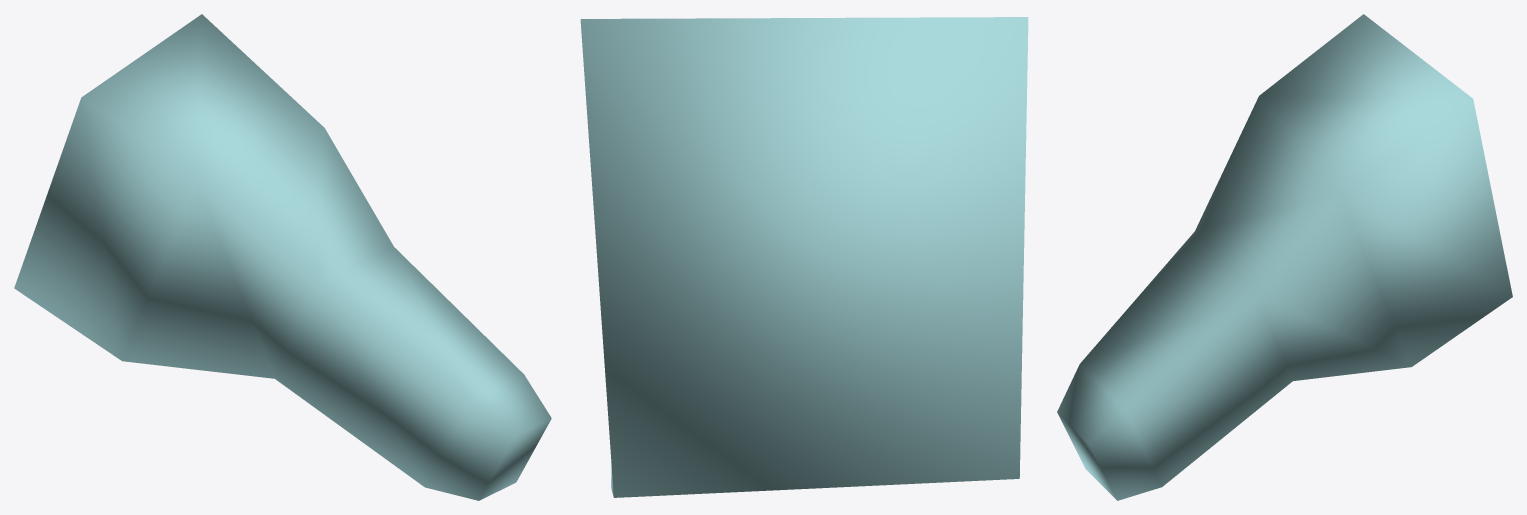
File: Skelly_thumb.03.L.fbx
The picture shows the model from 3 angles, left to right: view 1: azimuth 30°, elevation 25°; view 2: azimuth 150°, elevation 25°; view 3: azimuth 270°, elevation 25°; orthographic projection. The views are drawn at different scales.
Visible parts, largest first — view 1: Skelly_thumb.03.L; view 2: Skelly_thumb.03.L; view 3: Skelly_thumb.03.L.
Part boxes in pixels (x1=…): Skelly_thumb.03.L: x1=14, y1=14, x2=551, y2=500; Skelly_thumb.03.L: x1=580, y1=17, x2=1028, y2=497; Skelly_thumb.03.L: x1=1057, y1=14, x2=1512, y2=500.
Bounding box in the file's own units: 1.91 × 1.86 × 2.23.
